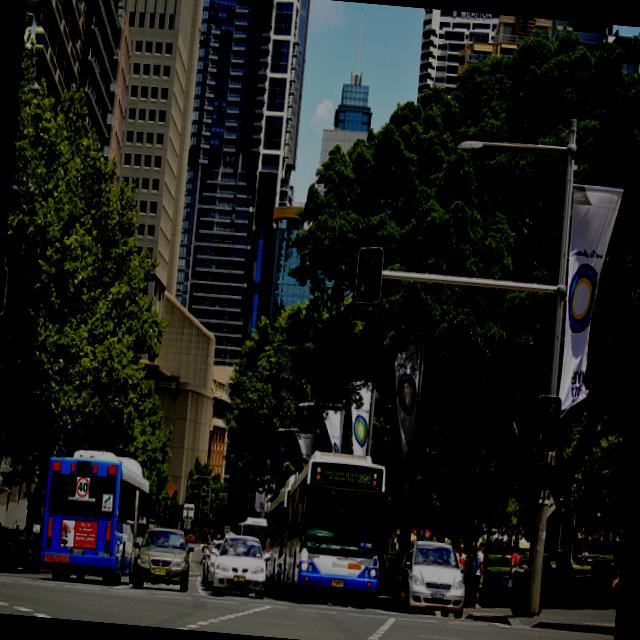Vehicle: (262, 448, 391, 606), (39, 447, 155, 587), (388, 538, 470, 618), (128, 528, 198, 594), (212, 534, 270, 597), (239, 516, 271, 554), (200, 539, 223, 591), (0, 523, 21, 570), (13, 538, 37, 572)
